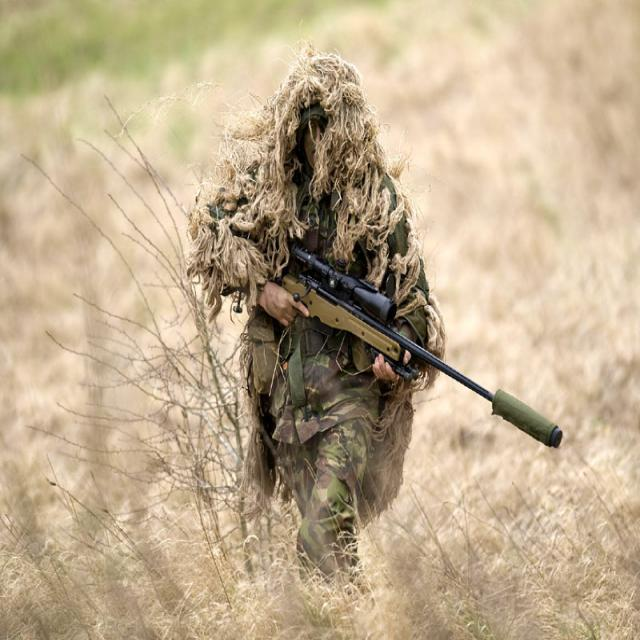sniper rifle: (260, 239, 578, 461)
